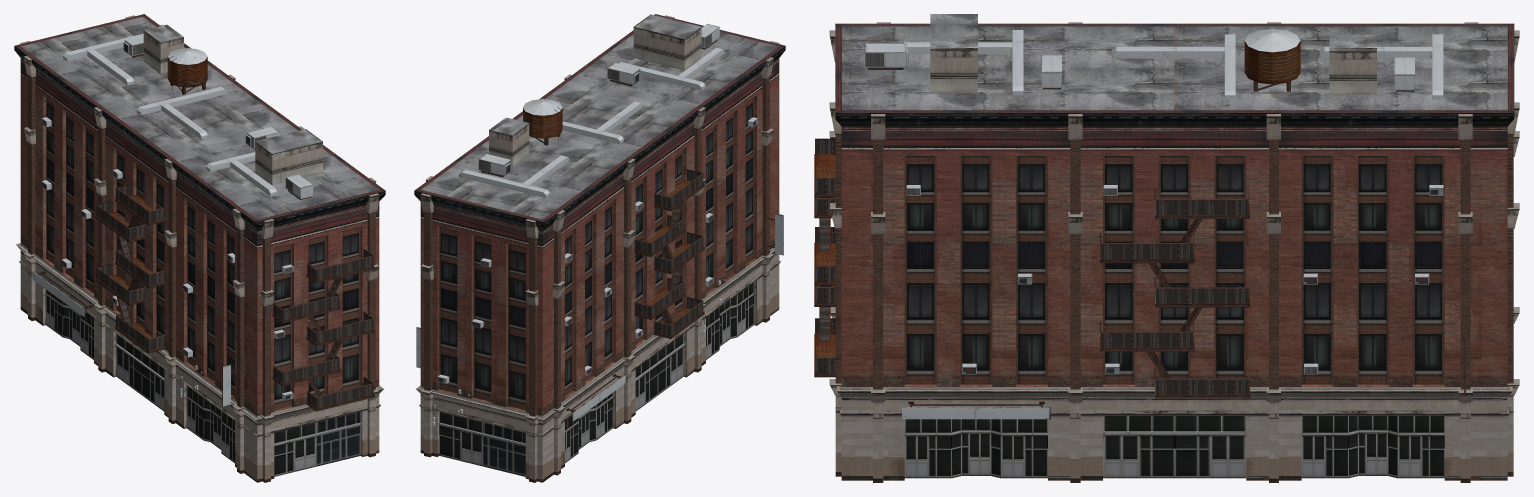
The model's file is BuildingBrickCorner.obj.
3 views of the same model, side by side, from view 1: azimuth 30°, elevation 25°; view 2: azimuth 150°, elevation 25°; view 3: azimuth 270°, elevation 25° (orthographic). The views are drawn at different scales.
Visible parts, largest first — view 1: Downtown_BrownstoneOffice_2_Brownstone_Facade_Flr_2_0, Downtown_BrownstoneOffice_2_Downtown_Facade_FLR_2_0, Downtown_BrownstoneOffice_2_Downtown_Firstfloor_FLR_2_0, Downtown_BrownstoneOffice_2_Downtown_Maskedstuff_1_0; view 2: Downtown_BrownstoneOffice_2_Brownstone_Facade_Flr_2_0, Downtown_BrownstoneOffice_2_Downtown_Facade_FLR_2_0, Downtown_BrownstoneOffice_2_Downtown_Firstfloor_FLR_2_0, Downtown_BrownstoneOffice_2_Downtown_Maskedstuff_1_0; view 3: Downtown_BrownstoneOffice_2_Brownstone_Facade_Flr_2_0, Downtown_BrownstoneOffice_2_Downtown_Facade_FLR_2_0, Downtown_BrownstoneOffice_2_Downtown_Firstfloor_FLR_2_0, Downtown_BrownstoneOffice_2_Downtown_Maskedstuff_1_0.
Boxes of the visible parts, box(x1,y1,x2,y2) form: Downtown_BrownstoneOffice_2_Brownstone_Facade_Flr_2_0: box(14, 14, 385, 416); Downtown_BrownstoneOffice_2_Downtown_Facade_FLR_2_0: box(16, 15, 383, 482); Downtown_BrownstoneOffice_2_Downtown_Firstfloor_FLR_2_0: box(32, 33, 374, 476); Downtown_BrownstoneOffice_2_Downtown_Maskedstuff_1_0: box(96, 184, 373, 408); Downtown_BrownstoneOffice_2_Brownstone_Facade_Flr_2_0: box(414, 14, 785, 416); Downtown_BrownstoneOffice_2_Downtown_Facade_FLR_2_0: box(416, 15, 780, 482); Downtown_BrownstoneOffice_2_Downtown_Firstfloor_FLR_2_0: box(416, 24, 783, 476); Downtown_BrownstoneOffice_2_Downtown_Maskedstuff_1_0: box(634, 170, 703, 335); Downtown_BrownstoneOffice_2_Brownstone_Facade_Flr_2_0: box(835, 14, 1514, 386); Downtown_BrownstoneOffice_2_Downtown_Facade_FLR_2_0: box(829, 22, 1519, 482); Downtown_BrownstoneOffice_2_Downtown_Firstfloor_FLR_2_0: box(814, 28, 1466, 478); Downtown_BrownstoneOffice_2_Downtown_Maskedstuff_1_0: box(815, 140, 1248, 394).
Size of the model in its own units: 14.72 by 26.25 by 39.83.
Materials: 4 (4 with a texture image).
